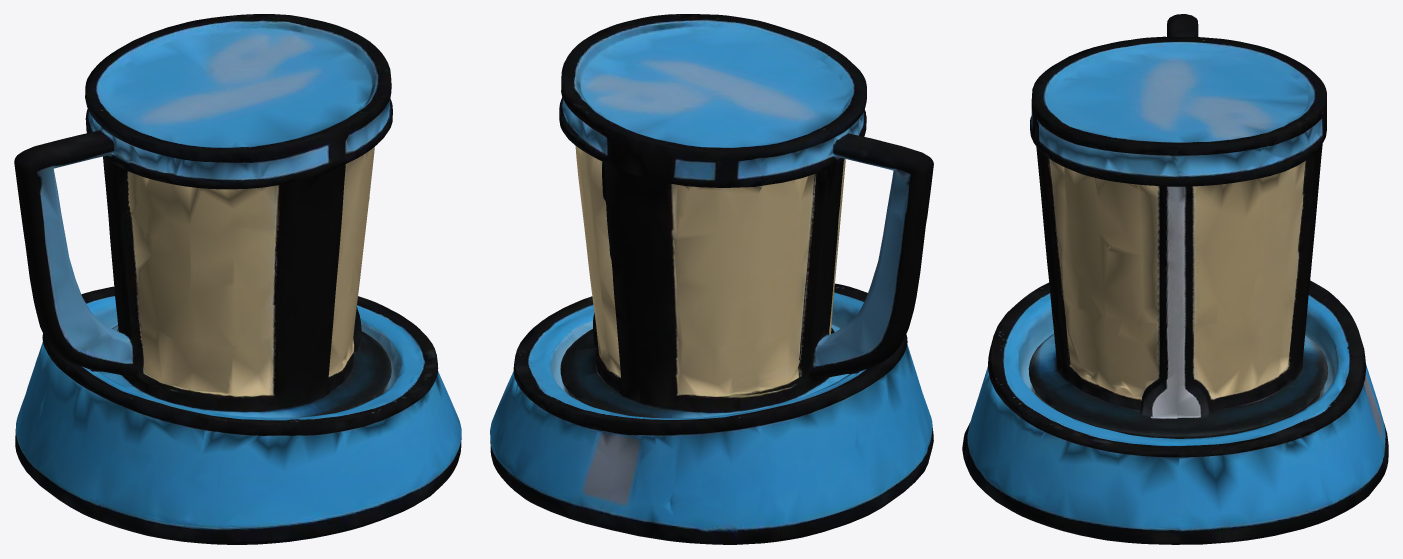
The model's file is bucket.glb.
3 views of the same model, side by side, from view 1: azimuth 30°, elevation 25°; view 2: azimuth 150°, elevation 25°; view 3: azimuth 270°, elevation 25° (orthographic). The views are drawn at different scales.
Parts seen in each view (by area): view 1: tripo_node_74baabcb-8f04-4590-8163-842ecd6f8b04; view 2: tripo_node_74baabcb-8f04-4590-8163-842ecd6f8b04; view 3: tripo_node_74baabcb-8f04-4590-8163-842ecd6f8b04.
Boxes of the visible parts, bbox=[...] form: tripo_node_74baabcb-8f04-4590-8163-842ecd6f8b04: bbox=[14, 14, 461, 544]; tripo_node_74baabcb-8f04-4590-8163-842ecd6f8b04: bbox=[490, 14, 933, 544]; tripo_node_74baabcb-8f04-4590-8163-842ecd6f8b04: bbox=[962, 14, 1388, 544].
Size of the model in its own units: 0.9997 by 0.9628 by 0.9166.
Materials: 1 (1 with a texture image).
